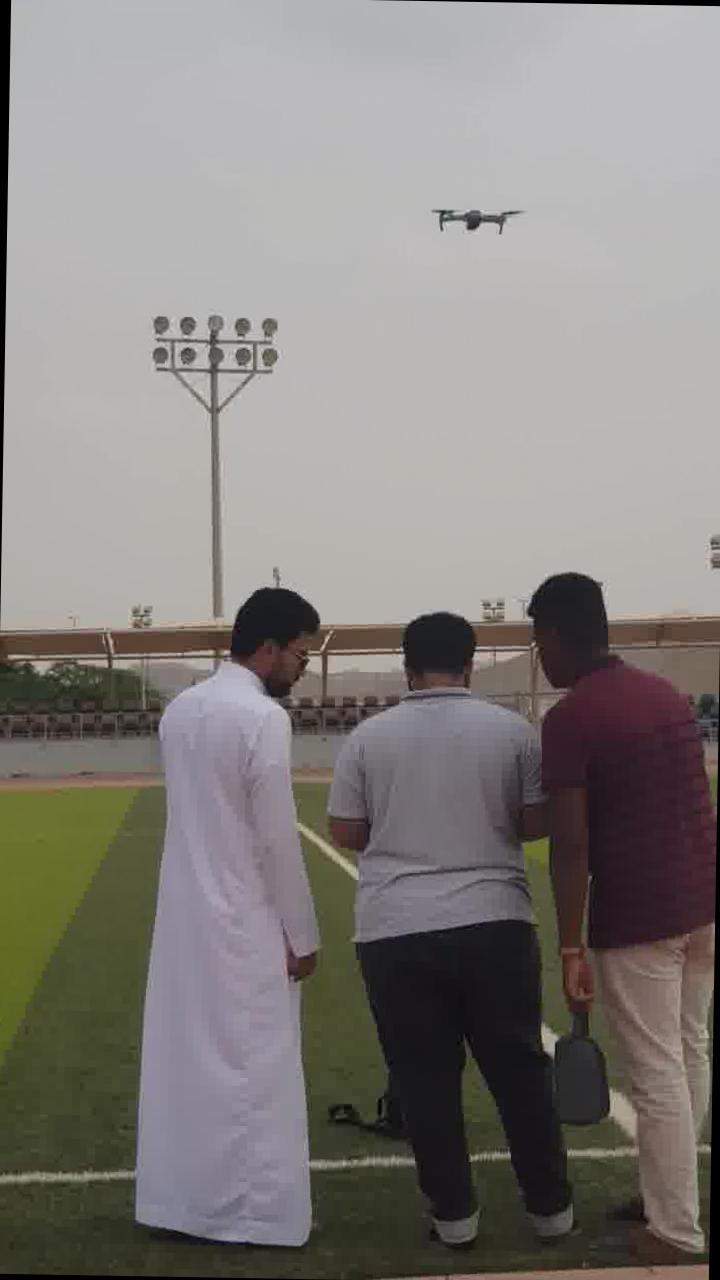drone: (427, 195, 523, 245)
